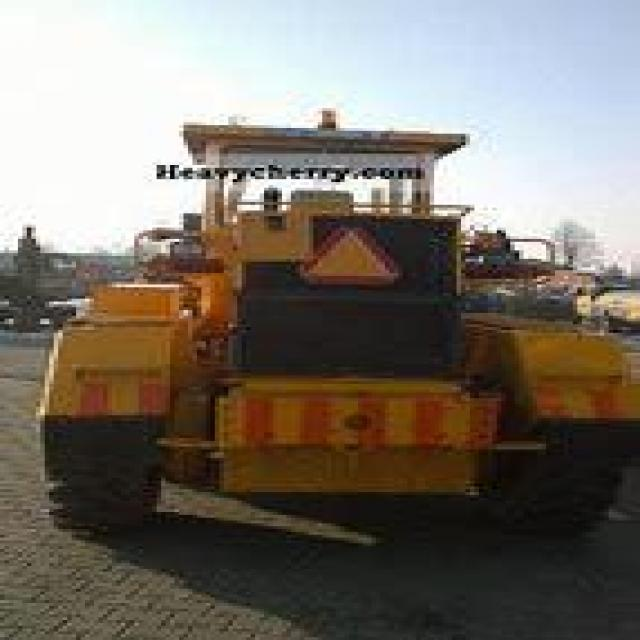Grader: (18, 100, 635, 538)
